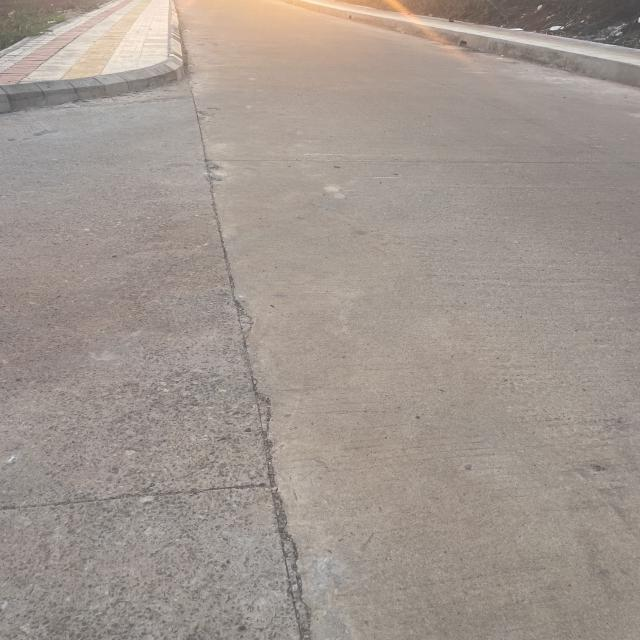D43: (140, 151, 397, 622)
